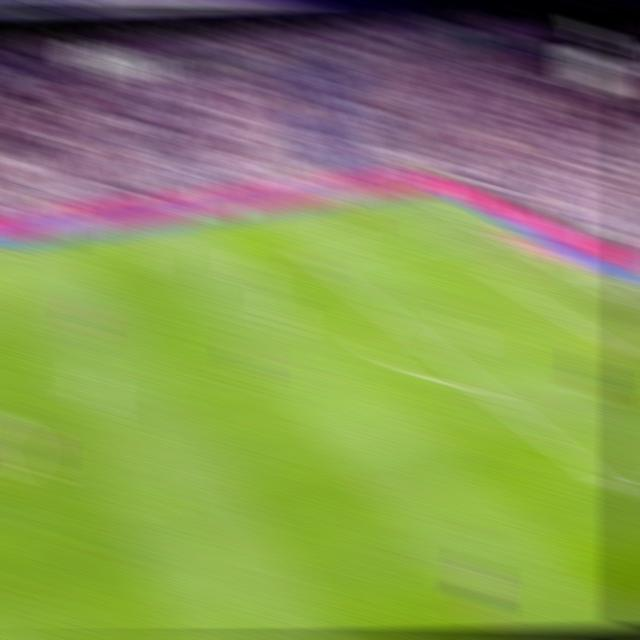bigarea_bottom_inner: (599, 474, 630, 504)
bigarea_top_inner: (306, 251, 331, 268)
bigarea_top_outter: (472, 223, 499, 239)
bottom_arc_area_intersection: (467, 375, 495, 398)
corner: (403, 187, 429, 202)
smallarea_top_inner: (489, 272, 514, 287)
top_arc_area_intersection: (367, 299, 396, 320)
